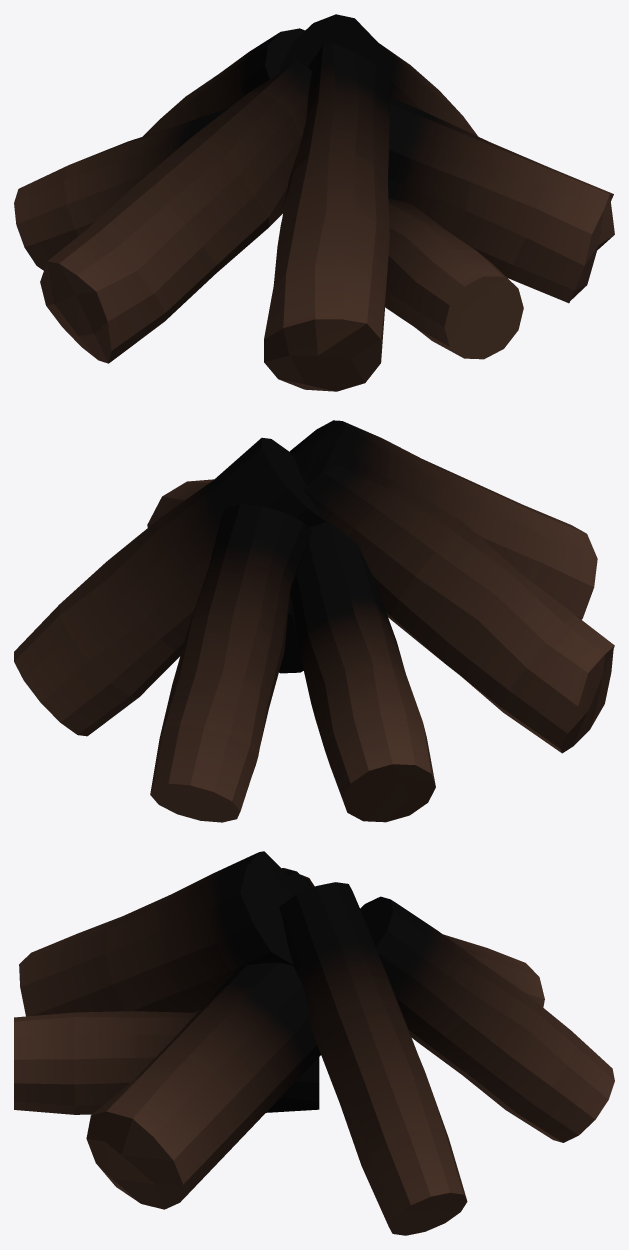
The model's file is fireplace.glb.
The picture shows the model from 3 angles, top to bottom: view 1: azimuth 30°, elevation 25°; view 2: azimuth 150°, elevation 25°; view 3: azimuth 270°, elevation 25°; orthographic projection.
Parts seen in each view (by area): view 1: Cylinder.002, Cylinder.003, Cylinder.001, Cylinder, Cylinder.004, Cylinder.005, Cylinder.006; view 2: Cylinder.002, Cylinder.005, Cylinder.006, Cylinder.004, Cylinder.003, Cylinder.001, Cylinder; view 3: Cylinder.005, Cylinder.001, Cylinder.006, Cylinder.003, Cylinder, Cylinder.004.
Boxes of the visible parts, box(x1,y1,x2,y2) form: Cylinder.002: box(40, 59, 311, 363); Cylinder.003: box(264, 43, 389, 391); Cylinder.001: box(388, 97, 614, 303); Cylinder: box(385, 198, 523, 359); Cylinder.004: box(14, 107, 229, 270); Cylinder.005: box(279, 14, 477, 136); Cylinder.006: box(143, 28, 304, 136); Cylinder.002: box(303, 465, 614, 753); Cylinder.005: box(14, 437, 325, 736); Cylinder.006: box(150, 504, 311, 822); Cylinder.004: box(290, 521, 435, 822); Cylinder.003: box(289, 420, 597, 619); Cylinder.001: box(147, 479, 292, 614); Cylinder: box(279, 614, 303, 673); Cylinder.005: box(279, 882, 467, 1235); Cylinder.001: box(86, 962, 320, 1209); Cylinder.006: box(360, 896, 614, 1142); Cylinder.003: box(19, 851, 303, 1016); Cylinder: box(14, 1011, 319, 1114); Cylinder.004: box(443, 934, 544, 1007).
Size of the model in its own units: 7.62 by 4.22 by 7.76.
Materials: 1 (1 with a texture image).
